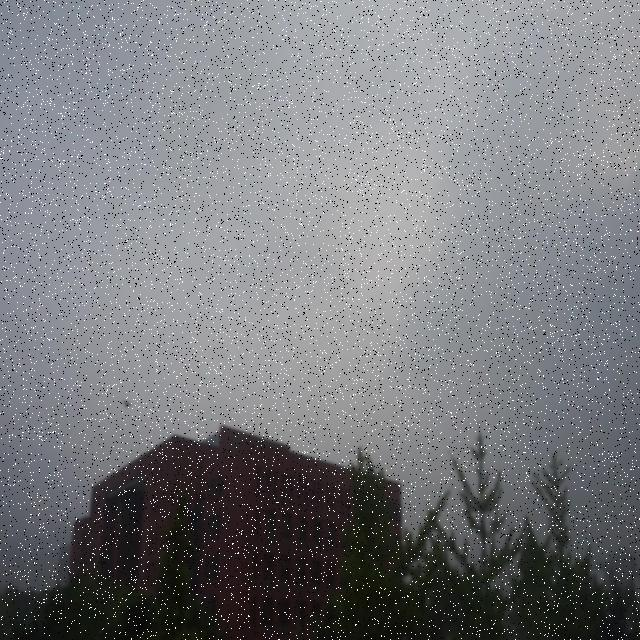UAV: (121, 400, 132, 410)
